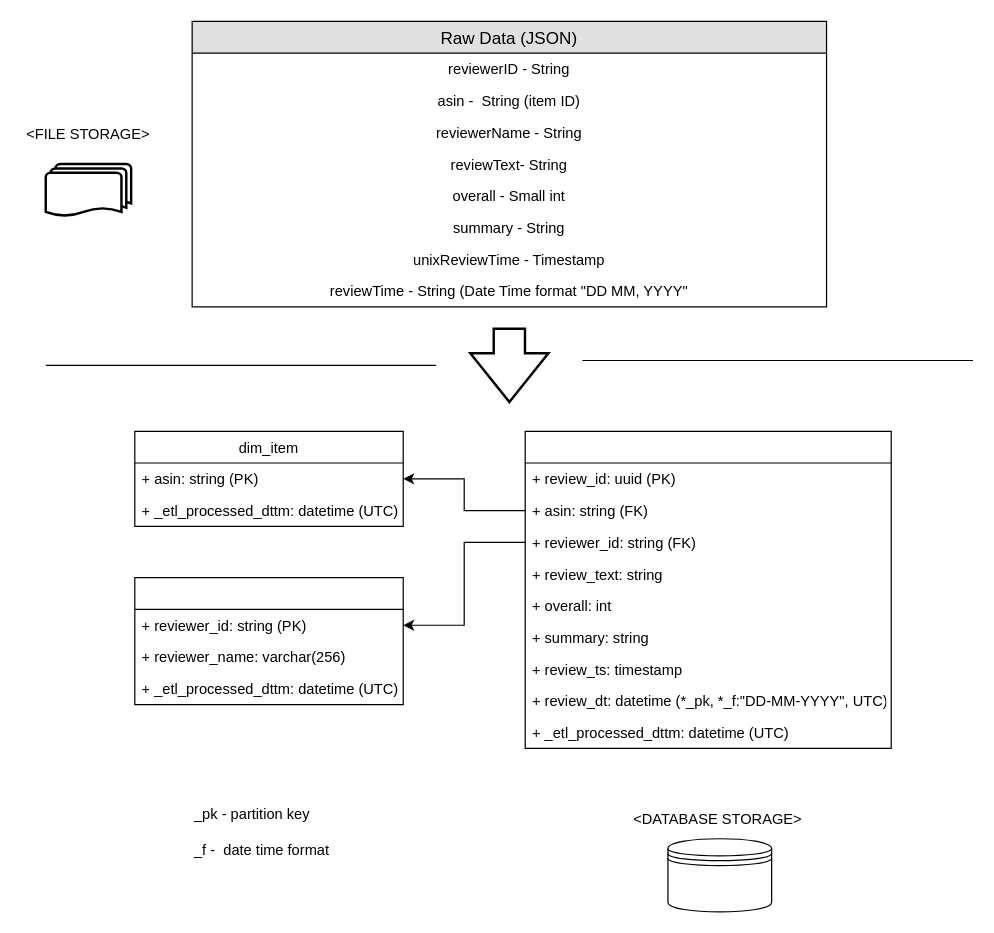
This 994x933 diagram has some shape labels left out. The shapes that lost their labels are listed below. From the top down, each one's box as (x1, y1, x2, y2) in pixels, then its label:
(524, 430, 891, 748): fct_review
(134, 576, 403, 705): dim_reviewer
